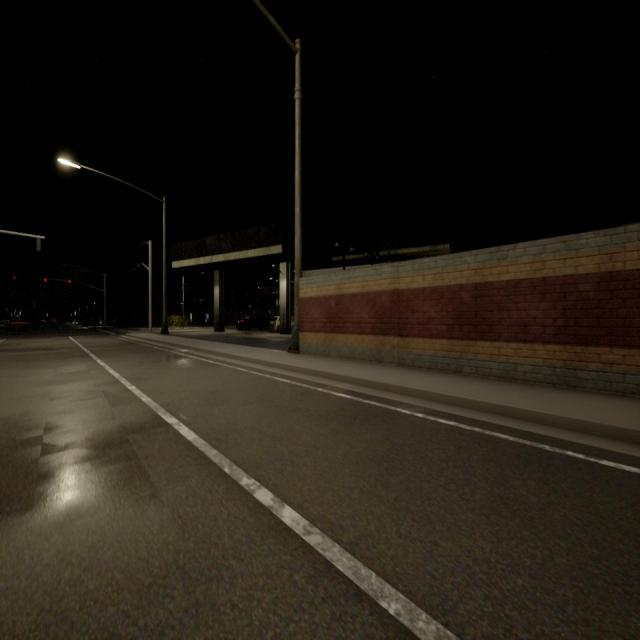Vehicle: (236, 314, 262, 330), (270, 317, 294, 332), (10, 316, 24, 327), (50, 318, 56, 324)
traffic_light: (36, 238, 40, 251), (13, 276, 16, 280), (44, 278, 47, 282), (68, 280, 71, 283), (138, 264, 140, 267)
